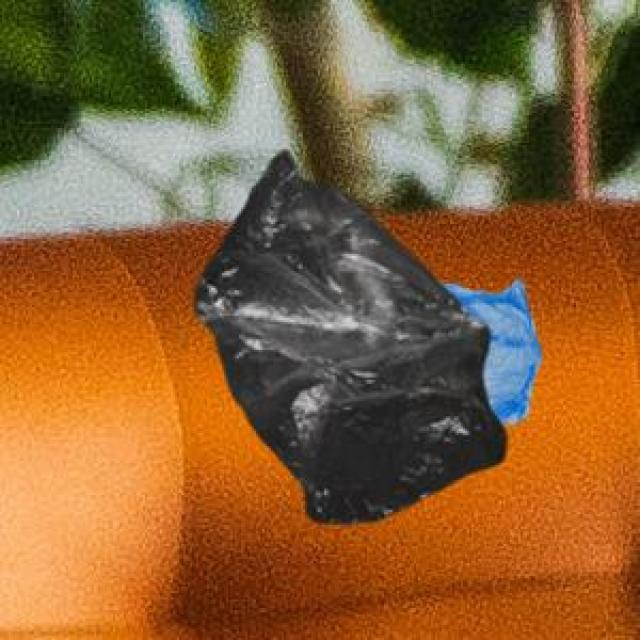plastic: (164, 121, 587, 565)
